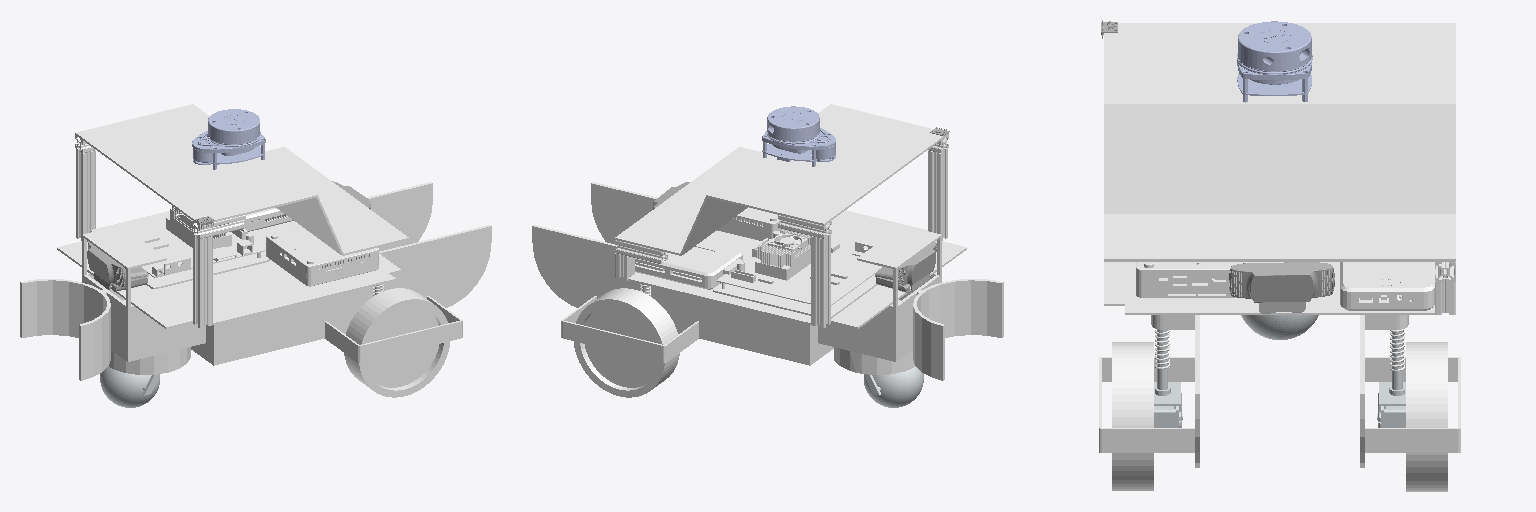
--- What the picture shows (computed from the rendered views, not written in the file) ---
Views: 3 orthographic renders of the robot side by side, from view 1: azimuth 30°, elevation 25°; view 2: azimuth 150°, elevation 25°; view 3: azimuth 270°, elevation 25°.
Model cheetos with 16 links and 15 joints (3 continuous, 4 prismatic, 8 fixed), rooted at dummy, posed every joint at zero.
Visible links, largest first — view 1: body, RightWheel, Ridar, Sphere, CamRear; view 2: body, LeftWheel, Ridar, Sphere, CamRear; view 3: body, Ridar, LeftWheel, RightWheel, CamLow, Sphere, LeftMotor, RightMotor.
Boxes of the visible links, box(x1,y1,x2,y2) form: body: box(20, 104, 491, 380); RightWheel: box(344, 288, 449, 397); Ridar: box(192, 109, 265, 169); Sphere: box(100, 366, 159, 407); CamRear: box(87, 241, 147, 291); body: box(532, 104, 1003, 380); LeftWheel: box(574, 288, 679, 397); Ridar: box(762, 106, 835, 166); Sphere: box(864, 367, 923, 407); CamRear: box(875, 242, 936, 292); body: box(1099, 23, 1460, 467); Ridar: box(1237, 21, 1312, 102); LeftWheel: box(1406, 342, 1447, 491); RightWheel: box(1112, 342, 1153, 490); CamLow: box(1228, 262, 1334, 313); Sphere: box(1241, 315, 1318, 339); LeftMotor: box(1377, 382, 1405, 427); RightMotor: box(1154, 382, 1182, 427).
Size in the robot's own frame: 0.628 by 0.34 by 0.3825 metres.
14 mesh visuals loaded from 15 distinct referenced files (14 binary STL); not drawn: 1 (reference not matched to a file when rendering).

robot.urdf — cheetos:
<?xml version="1.0" encoding="utf-8"?>
<!-- This URDF was automatically created by SolidWorks to URDF Exporter! Originally created by Stephen Brawner ([email redacted])
     Commit Version: 1.5.1-0-g916b5db  Build Version: 1.5.7152.31018
     For more information, please see http://wiki.ros.org/sw_urdf_exporter -->
<robot
  name="cheetos">
  <link
    name="body">
    <inertial>
      <origin
        xyz="-0.058704 0.0019092 0.1471"
        rpy="0 0 0" />
      <mass
        value="1.3" />
      <inertia
        ixx="0.015936"
        ixy="-7.1887E-07"
        ixz="0.0014941"
        iyy="0.04581"
        iyz="-5.7561E-08"
        izz="0.057669" />
    </inertial>
    <visual>
      <origin
        xyz="0 0 0"
        rpy="0 0 0" />
      <geometry>
        <mesh
          filename="package://cheetos_description/meshes/body.STL" />
      </geometry>
      <material
        name="">
        <color
          rgba="1 1 1 1" />
      </material>
    </visual>
    <collision>
      <origin
        xyz="0 0 0"
        rpy="0 0 0" />
      <geometry>
        <mesh
          filename="package://cheetos_description/meshes/body.STL" />
      </geometry>
    </collision>
  </link>
<link name="dummy"/>

  <joint name="base_joint" type="fixed">
    <parent link="dummy"/>
    <child link="body" />
  </joint>
  <link
    name="LeftSuspension">
    <inertial>
      <origin
        xyz="0.0012247 -4.7186E-05 -0.0072077"
        rpy="0 0 0" />
      <mass
        value="0.277165" />
      <inertia
        ixx="4.31E-05"
        ixy="-7.82E-07"
        ixz="1.48E-08"
        iyy="6.08E-05"
        iyz="-8.24E-08"
        izz="7.83E-05" />
    </inertial>
    <visual>
      <origin
        xyz="0 0 0"
        rpy="0 0 0" />
      <geometry>
        <mesh
          filename="package://cheetos_description/meshes/LeftSuspension.STL" />
      </geometry>
      <material
        name="">
        <color
          rgba="0.89804 0.91765 0.92941 1" />
      </material>
    </visual>
    <collision>
      <origin
        xyz="0 0 0"
        rpy="0 0 0" />
      <geometry>
        <mesh
          filename="package://cheetos_description/meshes/LeftSuspension.STL" />
      </geometry>
    </collision>
  </link>
  <joint
    name="LeftSuspension"
    type="prismatic">
    <origin
      xyz="0.0219999999999989 0.110000000000005 0.09029"
      rpy="0 0 0" />
    <parent
      link="body" />
    <child
      link="LeftSuspension" />
    <axis
      xyz="0 0 1" />
    <limit
      lower="-0.02"
      upper="0"
      effort="100"
      velocity="0.01" />
  </joint>
  <link
    name="LeftMotor">
    <inertial>
      <origin
        xyz="0.0012247 -4.7186E-05 -0.0072077"
        rpy="0 0 0" />
      <mass
        value="0.277165" />
      <inertia
        ixx="4.31E-05"
        ixy="-7.82E-07"
        ixz="1.48E-08"
        iyy="6.08E-05"
        iyz="-8.24E-08"
        izz="7.83E-05" />
    </inertial>
    <visual>
      <origin
        xyz="0 0 0"
        rpy="0 0 0" />
      <geometry>
        <mesh
          filename="package://cheetos_description/meshes/LeftMotor.STL" />
      </geometry>
      <material
        name="">
        <color
          rgba="0.89804 0.91765 0.92941 1" />
      </material>
    </visual>
    <collision>
      <origin
        xyz="0 0 0"
        rpy="0 0 0" />
      <geometry>
        <mesh
          filename="package://cheetos_description/meshes/LeftMotor.STL" />
      </geometry>
    </collision>
  </link>
  <joint
    name="LeftMotor"
    type="fixed">
    <origin
      xyz="0 0 -0.0245"
      rpy="0 0 0" />
    <parent
      link="LeftSuspension" />
    <child
      link="LeftMotor" />
    <axis
      xyz="0 0 0" />
  </joint>
  <link
    name="LeftWheel">
    <inertial>
      <origin
        xyz="-1.1102E-16 -2.9698E-15 3.4694E-18"
        rpy="0 0 0" />
      <mass
        value="0.39667" />
      <inertia
        ixx="0.00059162"
        ixy="8.7084E-22"
        ixz="-2.3396E-36"
        iyy="0.0011235"
        iyz="3.3722E-36"
        izz="0.00059162" />
    </inertial>
    <visual>
      <origin
        xyz="0 0 0"
        rpy="0 0 0" />
      <geometry>
        <mesh
          filename="package://cheetos_description/meshes/LeftWheel.STL" />
      </geometry>
      <material
        name="">
        <color
          rgba="1 1 1 1" />
      </material>
    </visual>
    <collision>
      <origin
        xyz="0 0 0"
        rpy="0 0 0" />
      <geometry>
        <mesh
          filename="package://cheetos_description/meshes/LeftWheel.STL" />
      </geometry>
    </collision>
  </link>
  <joint
    name="LeftWheel"
    type="continuous">
    <origin
      xyz="0.013 0.02775 -0.011787"
      rpy="0 0 0" />
    <parent
      link="LeftMotor" />
    <child
      link="LeftWheel" />
    <axis
      xyz="0 1 0" />
    <limit
      effort="3.1"
      velocity="7" />
  </joint>
  <link
    name="RightSuspension">
    <inertial>
      <origin
        xyz="0.0012247 4.7186E-05 -0.0072492"
        rpy="0 0 0" />
      <mass
        value="0.277165" />
      <inertia
        ixx="4.31E-05"
        ixy="-1.6285E-24"
        ixz="-1.48E-08"
        iyy="6.08E-05"
        iyz="-8.24E-08"
        izz="7.83E-05" />
    </inertial>
    <visual>
      <origin
        xyz="0 0 0"
        rpy="0 0 0" />
      <geometry>
        <mesh
          filename="package://cheetos_description/meshes/RightSuspension.STL" />
      </geometry>
      <material
        name="">
        <color
          rgba="0.89804 0.91765 0.92941 1" />
      </material>
    </visual>
    <collision>
      <origin
        xyz="0 0 0"
        rpy="0 0 0" />
      <geometry>
        <mesh
          filename="package://cheetos_description/meshes/RightSuspension.STL" />
      </geometry>
    </collision>
  </link>
  <joint
    name="RightSuspension"
    type="prismatic">
    <origin
      xyz="0.022 -0.11 0.09029"
      rpy="0 0 0" />
    <parent
      link="body" />
    <child
      link="RightSuspension" />
    <axis
      xyz="0 0 1" />
    <limit
      lower="-0.02"
      upper="0"
      effort="100"
      velocity="0.01" />
  </joint>
  <link
    name="RightMotor">
    <inertial>
      <origin
        xyz="0.0012247 4.7186E-05 -0.0072492"
        rpy="0 0 0" />
      <mass
        value="0.277165" />
      <inertia
        ixx="4.31E-05"
        ixy="7.82E-07"
        ixz="-1.48E-08"
        iyy="6.08E-05"
        iyz="-8.24E-08"
        izz="7.83E-05" />
    </inertial>
    <visual>
      <origin
        xyz="0 0 0"
        rpy="0 0 0" />
      <geometry>
        <mesh
          filename="package://cheetos_description/meshes/RightMotor.STL" />
      </geometry>
      <material
        name="">
        <color
          rgba="0.89804 0.91765 0.92941 1" />
      </material>
    </visual>
    <collision>
      <origin
        xyz="0 0 0"
        rpy="0 0 0" />
      <geometry>
        <mesh
          filename="package://cheetos_description/meshes/RightMotor.STL" />
      </geometry>
    </collision>
  </link>
  <joint
    name="RightMotor"
    type="fixed">
    <origin
      xyz="0 0 -0.0245000000000001"
      rpy="0 0 0" />
    <parent
      link="RightSuspension" />
    <child
      link="RightMotor" />
    <axis
      xyz="0 0 0" />
  </joint>
  <link
    name="RightWheel">
    <inertial>
      <origin
        xyz="-1.3878E-16 -2.8588E-15 3.4694E-18"
        rpy="0 0 0" />
      <mass
        value="0.39667" />
      <inertia
        ixx="0.00059162"
        ixy="-1.8658E-18"
        ixz="-8.9798E-20"
        iyy="0.0011235"
        iyz="-4.1551E-21"
        izz="0.00059162" />
    </inertial>
    <visual>
      <origin
        xyz="0 0 0"
        rpy="0 0 0" />
      <geometry>
        <mesh
          filename="package://cheetos_description/meshes/RightWheel.STL" />
      </geometry>
      <material
        name="">
        <color
          rgba="1 1 1 1" />
      </material>
    </visual>
    <collision>
      <origin
        xyz="0 0 0"
        rpy="0 0 0" />
      <geometry>
        <mesh
          filename="package://cheetos_description/meshes/RightWheel.STL" />
      </geometry>
    </collision>
  </link>
  <joint
    name="RightWheel"
    type="continuous">
    <origin
      xyz="0.0129999999999996 -0.0277499999999998 -0.0117849999999997"
      rpy="0 0 0" />
    <parent
      link="RightMotor" />
    <child
      link="RightWheel" />
    <axis
      xyz="0 1 0" />
    <limit
      effort="3.1"
      velocity="7" />
  </joint>
  <link
    name="RearSuspension">
    <inertial>
      <origin
        xyz="-0.010041 6.1657E-18 -0.02367"
        rpy="0 0 0" />
      <mass
        value="0.17387" />
      <inertia
        ixx="2.85E-04"
        ixy="2.72E-20"
        ixz="-3.47E-05"
        iyy="8.44E-05"
        iyz="-5.95E-20"
        izz="2.41E-04" />
    </inertial>
    <visual>
      <origin
        xyz="0 0 0"
        rpy="0 0 0" />
      <geometry>
        <mesh
          filename="package://cheetos_description/meshes/RearSuspension.STL" />
      </geometry>
      <material
        name="">
        <color
          rgba="0.89804 0.91765 0.92941 1" />
      </material>
    </visual>
    <collision>
      <origin
        xyz="0 0 0"
        rpy="0 0 0" />
      <geometry>
        <mesh
          filename="package://cheetos_description/meshes/RearSuspension.STL" />
      </geometry>
    </collision>
  </link>
  <joint
    name="RearSuspension"
    type="prismatic">
    <origin
      xyz="-0.27 0 0.08"
      rpy="0 0 0" />
    <parent
      link="body" />
    <child
      link="RearSuspension" />
    <axis
      xyz="0 0 1" />
    <limit
      lower="-0.04"
      upper="0"
      effort="100"
      velocity="0.01" />
  </joint>
  <link
    name="CasterJoint">
    <inertial>
      <origin
        xyz="-0.010041 6.1657E-18 -0.02367"
        rpy="0 0 0" />
      <mass
        value="1.7387" />
      <inertia
        ixx="0.00285"
        ixy="2.72E-19"
        ixz="-0.000347"
        iyy="0.000844"
        iyz="-5.95E-19"
        izz="0.00241" />
    </inertial>
    <visual>
      <origin
        xyz="0 0 0"
        rpy="0 0 0" />
      <geometry>
        <mesh
          filename="package://cheetos_description/meshes/CasterJoint.STL" />
      </geometry>
      <material
        name="">
        <color
          rgba="0.89804 0.91765 0.92941 1" />
      </material>
    </visual>
    <collision>
      <origin
        xyz="0 0 0"
        rpy="0 0 0" />
      <geometry>
        <mesh
          filename="package://cheetos_description/meshes/CasterJoint.STL" />
      </geometry>
    </collision>
  </link>
  <joint
    name="CasterJoint"
    type="prismatic">
    <origin
      xyz="0 0 -0.0075"
      rpy="0 0 0" />
    <parent
      link="RearSuspension" />
    <child
      link="CasterJoint" />
    <axis
      xyz="0 0 1" />
    <limit
      lower="-0.04"
      upper="0"
      effort="1000"
      velocity="1000" />
  </joint>
  <link
    name="Sphere">
    <inertial>
      <origin
        xyz="0 -2.4931E-20 6.9389E-18"
        rpy="0 0 0" />
      <mass
        value="0.215001" />
      <inertia
        ixx="1.38E-04"
        ixy="3.11E-39"
        ixz="-8.65E-41"
        iyy="1.39E-04"
        iyz="0"
        izz="1.38E-04" />
    </inertial>
    <visual>
      <origin
        xyz="0 0 0"
        rpy="0 0 0" />
      <geometry>
        <mesh
          filename="package://cheetos_description/meshes/Sphere.STL" />
      </geometry>
      <material
        name="">
        <color
          rgba="0.89804 0.91765 0.92941 1" />
      </material>
    </visual>
    <collision>
      <origin
        xyz="0 0 0"
        rpy="0 0 0" />
      <geometry>
        <mesh
          filename="package://cheetos_description/meshes/Sphere.STL" />
      </geometry>
    </collision>
  </link>
  <joint
    name="Sphere"
    type="continuous">
    <origin
      xyz="-0.02373 0 -0.0485"
      rpy="0 0 0" />
    <parent
      link="CasterJoint" />
    <child
      link="Sphere" />
    <axis
      xyz="0 1 0" />
  </joint>
  <link
    name="Ridar">
    <inertial>
      <origin
        xyz="-0.010658 0.0014954 -0.018432"
        rpy="0 0 0" />
      <mass
        value="0.073085" />
      <inertia
        ixx="1.9586E-05"
        ixy="-1.7855E-07"
        ixz="4.2849E-07"
        iyy="2.412E-05"
        iyz="-2.3849E-09"
        izz="4.1418E-05" />
    </inertial>
    <visual>
      <origin
        xyz="0 0 0"
        rpy="0 0 0" />
      <geometry>
        <mesh
          filename="package://cheetos_description/meshes/Ridar.STL" />
      </geometry>
      <material
        name="">
        <color
          rgba="0.79216 0.81961 0.93333 1" />
      </material>
    </visual>
    <collision>
      <origin
        xyz="0 0 0"
        rpy="0 0 0" />
      <geometry>
        <mesh
          filename="package://cheetos_description/meshes/Ridar.STL" />
      </geometry>
    </collision>
  </link>
  <joint
    name="Ridar"
    type="fixed">
    <origin
      xyz="-0.1392 -0.0060445 0.35617"
      rpy="0 0 0" />
    <parent
      link="body" />
    <child
      link="Ridar" />
    <axis
      xyz="0 0 0" />
  </joint>
  <link
    name="imu_link">
    <inertial>
      <origin
        xyz="-5.8068E-05 -0.0009295 0.00033472"
        rpy="0 0 0" />
      <mass
        value="0.0010017" />
      <inertia
        ixx="1.6953E-08"
        ixy="-1.306E-11"
        ixz="-3.3681E-18"
        iyy="3.0394E-08"
        iyz="-6.2461E-14"
        izz="4.6329E-08" />
    </inertial>
    <visual>
      <origin
        xyz="0 0 0"
        rpy="0 0 0" />
      <geometry>
        <mesh
          filename="package://cheetos_description/meshes/imu_link.STL" />
      </geometry>
      <material
        name="">
        <color
          rgba="0.75294 0.75294 0.75294 1" />
      </material>
    </visual>
    <collision>
      <origin
        xyz="0 0 0"
        rpy="0 0 0" />
      <geometry>
        <mesh
          filename="package://cheetos_description/meshes/imu_link.STL" />
      </geometry>
    </collision>
  </link>
  <joint
    name="IMU"
    type="fixed">
    <origin
      xyz="-0.27194 -0.15957 0.313"
      rpy="0 0 0" />
    <parent
      link="body" />
    <child
      link="imu_link" />
    <axis
      xyz="0 0 0" />
  </joint>
  <link
    name="CamUp">
    <inertial>
      <origin
        xyz="-0.024061 -0.0008311 -0.0086821"
        rpy="0 0 0" />
      <mass
        value="0.081457" />
      <inertia
        ixx="2.9382E-05"
        ixy="5.3333E-07"
        ixz="-2.5929E-07"
        iyy="1.3902E-05"
        iyz="-9.7053E-09"
        izz="3.6678E-05" />
    </inertial>
    <visual>
      <origin
        xyz="0 0 0"
        rpy="0 0 0" />
      <geometry>
        <mesh
          filename="package://cheetos_description/meshes/CamUp.STL" />
      </geometry>
      <material
        name="">
        <color
          rgba="0.75294 0.75294 0.75294 1" />
      </material>
    </visual>
    <collision>
      <origin
        xyz="0 0 0"
        rpy="0 0 0" />
      <geometry>
        <mesh
          filename="package://cheetos_description/meshes/CamUp.STL" />
      </geometry>
    </collision>
  </link>
  <joint
    name="CamUp"
    type="fixed">
    <origin
      xyz="0.056625 0.0021836 0.25151"
      rpy="0 0 0" />
    <parent
      link="body" />
    <child
      link="CamUp" />
    <axis
      xyz="0 0 0" />
  </joint>
  <link
    name="CamLow">
    <inertial>
      <origin
        xyz="-0.024061 -0.0008311 -0.0086821"
        rpy="0 0 0" />
      <mass
        value="0.081457" />
      <inertia
        ixx="2.9382E-05"
        ixy="5.3333E-07"
        ixz="-2.5929E-07"
        iyy="1.3902E-05"
        iyz="-9.7057E-09"
        izz="3.6678E-05" />
    </inertial>
    <visual>
      <origin
        xyz="0 0 0"
        rpy="0 0 0" />
      <geometry>
        <mesh
          filename="package://cheetos_description/meshes/CamLow.STL" />
      </geometry>
      <material
        name="">
        <color
          rgba="0.75294 0.75294 0.75294 1" />
      </material>
    </visual>
    <collision>
      <origin
        xyz="0 0 0"
        rpy="0 0 0" />
      <geometry>
        <mesh
          filename="package://cheetos_description/meshes/CamLow.STL" />
      </geometry>
    </collision>
  </link>
  <joint
    name="CamLow"
    type="fixed">
    <origin
      xyz="0.056625 0.0021836 0.19651"
      rpy="0 0 0" />
    <parent
      link="body" />
    <child
      link="CamLow" />
    <axis
      xyz="0 0 0" />
  </joint>
  <link
    name="CamRear">
    <inertial>
      <origin
        xyz="-0.024061 0.00082826 -0.0086821"
        rpy="0 0 0" />
      <mass
        value="0.081457" />
      <inertia
        ixx="2.9382E-05"
        ixy="-5.3553E-07"
        ixz="-2.5934E-07"
        iyy="1.3902E-05"
        iyz="8.1779E-09"
        izz="3.6678E-05" />
    </inertial>
    <visual>
      <origin
        xyz="0 0 0"
        rpy="0 0 0" />
      <geometry>
        <mesh
          filename="package://cheetos_description/meshes/CamRear.STL" />
      </geometry>
      <material
        name="">
        <color
          rgba="0.75294 0.75294 0.75294 1" />
      </material>
    </visual>
    <collision>
      <origin
        xyz="0 0 0"
        rpy="0 0 0" />
      <geometry>
        <mesh
          filename="package://cheetos_description/meshes/CamRear.STL" />
      </geometry>
    </collision>
  </link>
  <joint
    name="CamRear"
    type="fixed">
    <origin
      xyz="-0.34186 0.0021836 0.19651"
      rpy="0 0 -3.1416" />
    <parent
      link="body" />
    <child
      link="CamRear" />
    <axis
      xyz="0 0 0" />
  </joint>
<transmission name="front_wheel_left_transmission">
    <type>transmission_interface/SimpleTransmission</type>
    <joint name="LeftWheel">
      <hardwareInterface>hardware_interface/EffortJointInterface</hardwareInterface>
    </joint>
    <actuator name="Front_Left_Wheel_Motor">
      <hardwareInterface>hardware_interface/EffortJointInterface</hardwareInterface>
      <mechanicalReduction>1</mechanicalReduction>
    </actuator>
  </transmission>
  <transmission name="front_wheel_right_transmission">
    <type>transmission_interface/SimpleTransmission</type>
    <joint name="RightWheel">
      <hardwareInterface>hardware_interface/EffortJointInterface</hardwareInterface>
    </joint>
    <actuator name="Front_Right_Wheel_Motor">
      <hardwareInterface>hardware_interface/EffortJointInterface</hardwareInterface>
      <mechanicalReduction>1</mechanicalReduction>
    </actuator>
  </transmission>
   <transmission name="front_suspension_right_transmission">
    <type>transmission_interface/SimpleTransmission</type>
    <joint name="RightSuspension">
      <hardwareInterface>hardware_interface/EffortJointInterface</hardwareInterface>
    </joint>
    <actuator name="front_Right_suspension_Motor">
      <hardwareInterface>hardware_interface/EffortJointInterface</hardwareInterface>
      <mechanicalReduction>1</mechanicalReduction>
    </actuator>
  </transmission>
  <transmission name="front_suspension_left_transmission">
    <type>transmission_interface/SimpleTransmission</type>
    <joint name="LeftSuspension">
      <hardwareInterface>hardware_interface/EffortJointInterface</hardwareInterface>
    </joint>
    <actuator name="front_Left_suspension_Motor">
      <hardwareInterface>hardware_interface/EffortJointInterface</hardwareInterface>
      <mechanicalReduction>1</mechanicalReduction>
    </actuator>
  </transmission>
  <transmission name="rear_suspension_transmission">
    <type>transmission_interface/SimpleTransmission</type>
    <joint name="RearSuspension">
      <hardwareInterface>hardware_interface/EffortJointInterface</hardwareInterface>
    </joint>
    <actuator name="rear_suspension_Motor">
      <hardwareInterface>hardware_interface/EffortJointInterface</hardwareInterface>
      <mechanicalReduction>1</mechanicalReduction>
    </actuator>
  </transmission>
<gazebo>
  <plugin name="gazebo_ros_control" filename="libgazebo_ros_control.so">
    <robotNamespace>/cheetos</robotNamespace>
    <robotSimType>gazebo_ros_control/DefaultRobotHWSim</robotSimType>
  </plugin>
</gazebo>

<gazebo reference="body">
  <material>Gazebo/Orange</material>
</gazebo>

<gazebo reference="LeftSuspension">
  <material>Gazebo/White</material>
</gazebo>

<gazebo reference="LeftMotor">
  <material>Gazebo/Black</material>
</gazebo>

<gazebo reference="LeftWheel">
  <mu1>1.0</mu1>
  <mu2>1.0</mu2>
  <material>Gazebo/Grey</material>
</gazebo>

<gazebo reference="RightSuspension">
  <material>Gazebo/White</material>
</gazebo>

<gazebo reference="RightMotor">
  <material>Gazebo/Black</material>
</gazebo>

<gazebo reference="RightWheel">
  <mu1>1.0</mu1>
  <mu2>1.0</mu2>
  <material>Gazebo/Grey</material>
</gazebo>

<gazebo reference="Sphere">
  <mu1>0.3</mu1>
  <mu2>0.3</mu2>
  <material>Gazebo/Grey</material>
</gazebo>

<gazebo reference="imu_link">
  <material>Gazebo/SkyBlue</material>
</gazebo>

<gazebo reference="CamUp">
  <material>Gazebo/Grey</material>
  <sensor type="depth" name="realsense_R200">
    <always_on>true</always_on>
    <visualize>false</visualize>
    <camera>
        <pose>0 0 0 0 0 0</pose>
        <horizontal_fov>1.3439</horizontal_fov>
        <image>
            <width>1920</width>
            <height>1080</height>
            <format>R8G8B8</format>
        </image>
        <depth_camera></depth_camera>
        <clip>
            <near>0.03</near>
            <far>100</far>
        </clip>
    </camera>
    <plugin name="camera_controller" filename="libgazebo_ros_openni_kinect.so">
      <baseline>0.2</baseline>
      <alwaysOn>true</alwaysOn>
      <updateRate>30.0</updateRate>
      <cameraName>upper_camera</cameraName>
      <frameName>upper_camera_link</frameName>
      <imageTopicName>rgb/image_raw</imageTopicName>
      <depthImageTopicName>depth/image_raw</depthImageTopicName>
      <pointCloudTopicName>depth/points</pointCloudTopicName>
      <cameraInfoTopicName>rgb/camera_info</cameraInfoTopicName>
      <depthImageCameraInfoTopicName>depth/camera_info</depthImageCameraInfoTopicName>
      <pointCloudCutoff>0.4</pointCloudCutoff>
          <hackBaseline>0.07</hackBaseline>
          <distortionK1>0.0</distortionK1>
          <distortionK2>0.0</distortionK2>
          <distortionK3>0.0</distortionK3>
          <distortionT1>0.0</distortionT1>
          <distortionT2>0.0</distortionT2>
      <CxPrime>0.0</CxPrime>
      <Cx>0.0</Cx>
      <Cy>0.0</Cy>
      <focalLength>0</focalLength>
      <hackBaseline>0</hackBaseline>
    </plugin>
  </sensor>
</gazebo>

<gazebo reference="CamLow">
  <material>Gazebo/Grey</material>
  <sensor type="depth" name="realsense_R200">
    <always_on>true</always_on>
    <visualize>false</visualize>
    <camera>
        <pose>0 0 0 0 1 0</pose>
        <horizontal_fov>1.3439</horizontal_fov>
        <image>
            <width>1920</width>
            <height>1080</height>
            <format>R8G8B8</format>
        </image>
        <depth_camera></depth_camera>
        <clip>
            <near>0.03</near>
            <far>100</far>
        </clip>
    </camera>
    <plugin name="camera_controller" filename="libgazebo_ros_openni_kinect.so">
      <baseline>0.2</baseline>
      <alwaysOn>true</alwaysOn>
      <updateRate>30.0</updateRate>
      <cameraName>lower_camera</cameraName>
      <frameName>lower_camera_link</frameName>
      <imageTopicName>rgb/image_raw</imageTopicName>
      <depthImageTopicName>depth/image_raw</depthImageTopicName>
      <pointCloudTopicName>depth/points</pointCloudTopicName>
      <cameraInfoTopicName>rgb/camera_info</cameraInfoTopicName>
      <depthImageCameraInfoTopicName>depth/camera_info</depthImageCameraInfoTopicName>
      <pointCloudCutoff>0.4</pointCloudCutoff>
          <hackBaseline>0.07</hackBaseline>
          <distortionK1>0.0</distortionK1>
          <distortionK2>0.0</distortionK2>
          <distortionK3>0.0</distortionK3>
          <distortionT1>0.0</distortionT1>
          <distortionT2>0.0</distortionT2>
      <CxPrime>0.0</CxPrime>
      <Cx>0.0</Cx>
      <Cy>0.0</Cy>
      <focalLength>0</focalLength>
      <hackBaseline>0</hackBaseline>
    </plugin>
  </sensor>
</gazebo>
<gazebo reference="CamRear">
  <material>Gazebo/Grey</material>
  <sensor type="depth" name="realsense_R200">
    <always_on>true</always_on>
    <visualize>false</visualize>
    <camera>
        <pose>0 0 0 0 0.3 3.1416</pose>
        <horizontal_fov>1.3439</horizontal_fov>
        <image>
            <width>1920</width>
            <height>1080</height>
            <format>R8G8B8</format>
        </image>
        <depth_camera></depth_camera>
        <clip>
            <near>0.03</near>
            <far>100</far>
        </clip>
    </camera>
    <plugin name="camera_controller" filename="libgazebo_ros_openni_kinect.so">
      <baseline>0.2</baseline>
      <alwaysOn>true</alwaysOn>
      <updateRate>30.0</updateRate>
      <cameraName>rear_camera</cameraName>
      <frameName>rear_camera_link</frameName>
      <imageTopicName>rgb/image_raw</imageTopicName>
      <depthImageTopicName>depth/image_raw</depthImageTopicName>
      <pointCloudTopicName>depth/points</pointCloudTopicName>
      <cameraInfoTopicName>rgb/camera_info</cameraInfoTopicName>
      <depthImageCameraInfoTopicName>depth/camera_info</depthImageCameraInfoTopicName>
      <pointCloudCutoff>0.4</pointCloudCutoff>
          <hackBaseline>0.07</hackBaseline>
          <distortionK1>0.0</distortionK1>
          <distortionK2>0.0</distortionK2>
          <distortionK3>0.0</distortionK3>
          <distortionT1>0.0</distortionT1>
          <distortionT2>0.0</distortionT2>
      <CxPrime>0.0</CxPrime>
      <Cx>0.0</Cx>
      <Cy>0.0</Cy>
      <focalLength>0</focalLength>
      <hackBaseline>0</hackBaseline>
    </plugin>
  </sensor>
</gazebo>

<gazebo reference="Lidar">
  <material>Gazebo/FlatBlack</material>
  <sensor type="ray" name="lds_lfcd_sensor">
    <pose>0 0 0 0 0 0</pose>
    <visualize>false</visualize>
    <update_rate>5</update_rate>
    <ray>
      <scan>
        <horizontal>
          <samples>360</samples>
          <resolution>1</resolution>
          <min_angle>0.0</min_angle>
          <max_angle>6.28319</max_angle>
        </horizontal>
      </scan>
      <range>
        <min>0.120</min>
        <max>3.5</max>
        <resolution>0.015</resolution>
      </range>
      <noise>
        <type>gaussian</type>
        <mean>0.0</mean>
        <stddev>0.01</stddev>
      </noise>
    </ray>
    <plugin name="gazebo_ros_lds_lfcd_controller" filename="libgazebo_ros_laser.so">
      <topicName>scan</topicName>
      <frameName>Lidar</frameName>
    </plugin>
  </sensor>
</gazebo>

<gazebo reference="imu_link">
    <sensor type="imu" name="imu">
      <always_on>true</always_on>
      <visualize>true</visualize>
    </sensor>
  </gazebo>

  <gazebo>
    <plugin name="imu_plugin" filename="libgazebo_ros_imu.so">
      <alwaysOn>true</alwaysOn>
      <bodyName>imu_link</bodyName>
      <frameName>imu_link</frameName>
      <topicName>imu</topicName>
      <serviceName>imu_service</serviceName>
      <gaussianNoise>0.0</gaussianNoise>
      <updateRate>200</updateRate>
      <imu>
        <noise>
          <type>gaussian</type>
          <rate>
            <mean>0.0</mean>
            <stddev>2e-4</stddev>
            <bias_mean>0.0000075</bias_mean>
            <bias_stddev>0.0000008</bias_stddev>
          </rate>
          <accel>
            <mean>0.0</mean>
            <stddev>1.7e-2</stddev>
            <bias_mean>0.1</bias_mean>
            <bias_stddev>0.001</bias_stddev>
          </accel>
        </noise>
      </imu>
    </plugin>
  </gazebo>
</robot>
